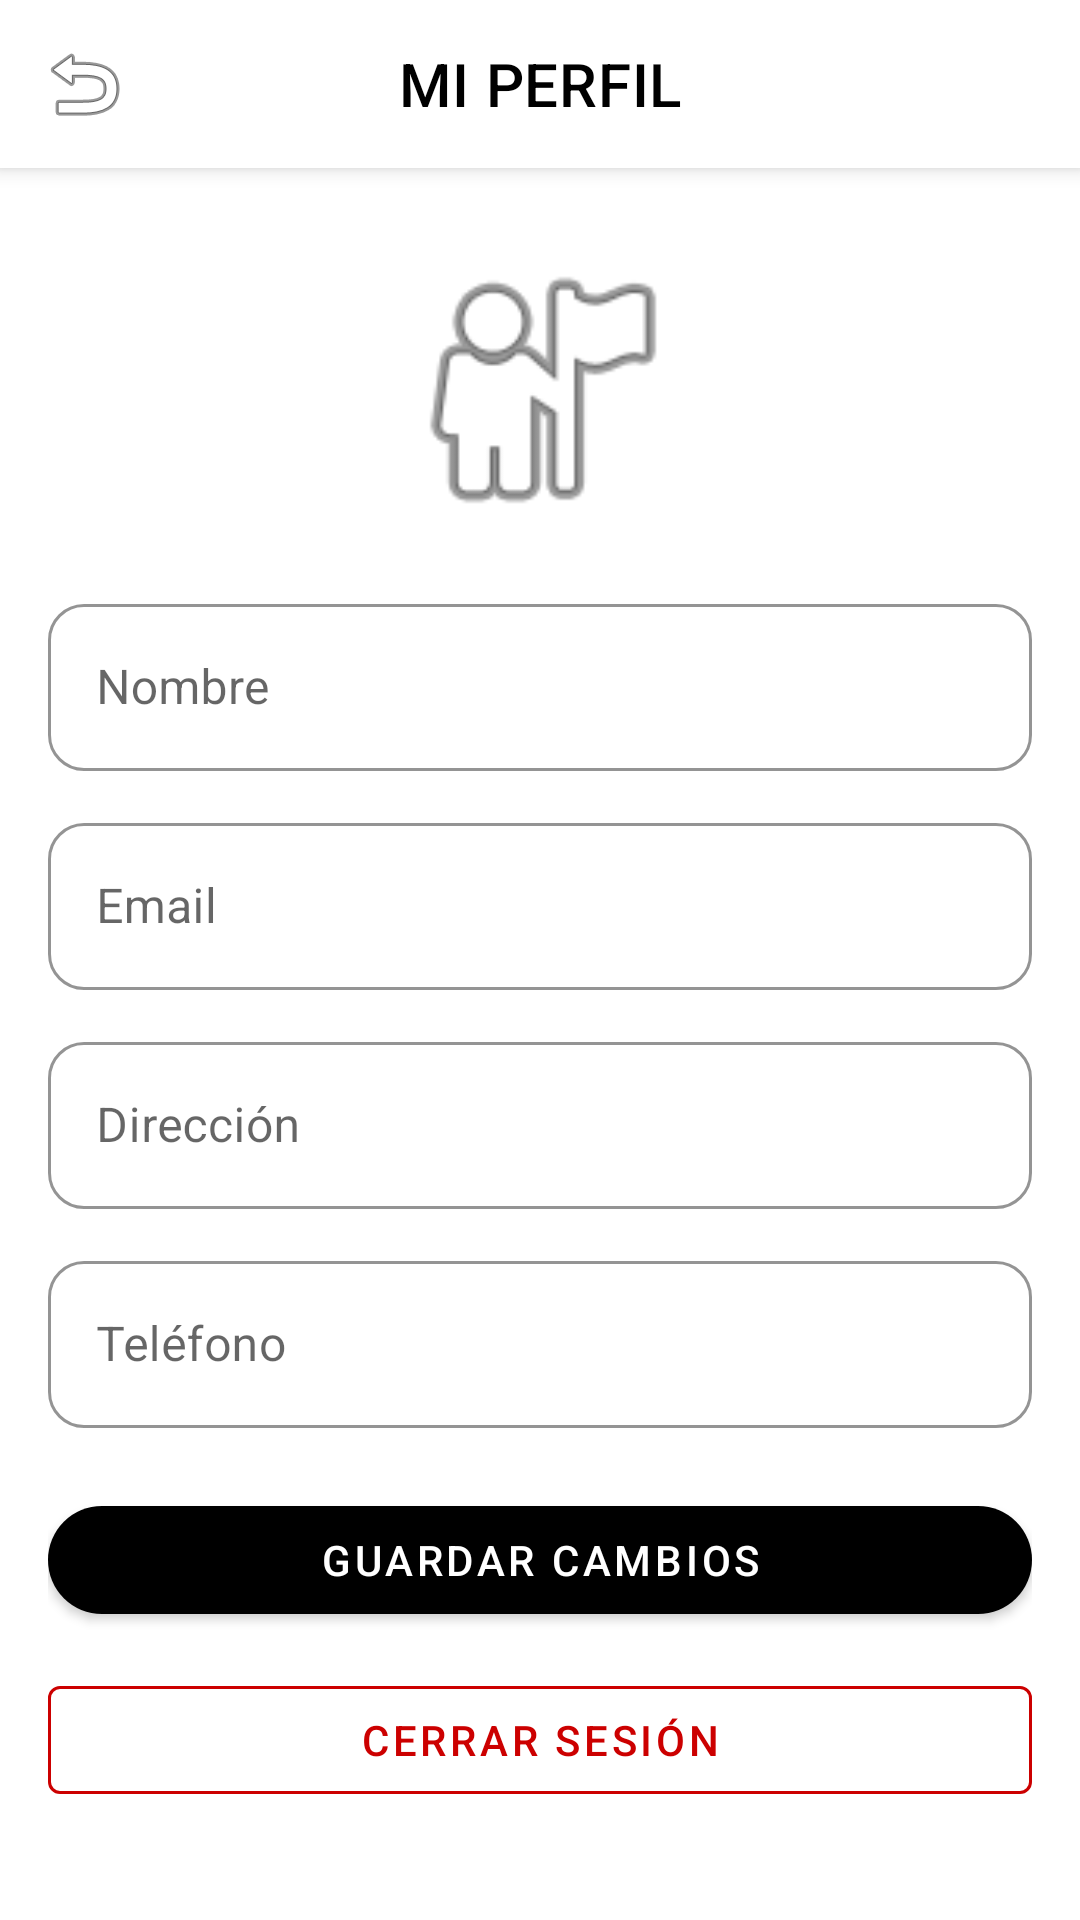

Icons on this 1080px x 1920px Android screen, each with the point to tap as [x,y]:
Usuario: [543,390]
